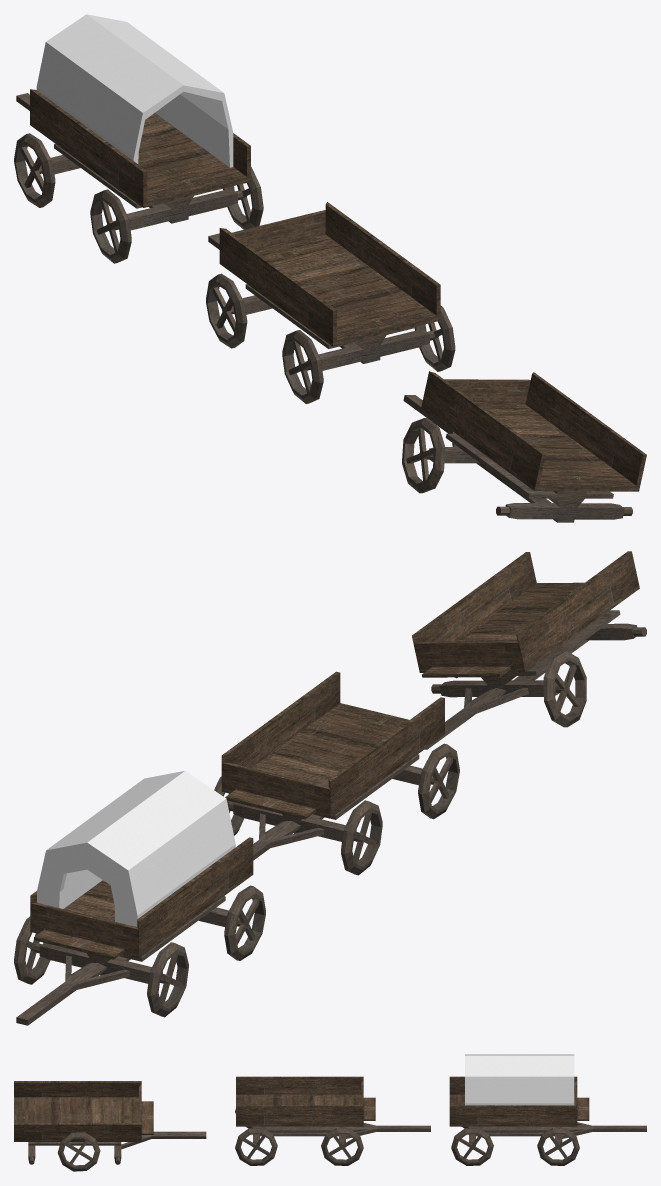
Rendered from oldwest_06.obj.
3 renders of one model, top to bottom at view 1: azimuth 30°, elevation 25°; view 2: azimuth 150°, elevation 25°; view 3: azimuth 270°, elevation 25°, orthographic. The views are drawn at different scales.
Visible parts, largest first — view 1: Cube.064, Cube.071, Cube.079, Cube.068, Cube.065, Cube.066, Cube.070, Cube.067, Cube.069, Cube.080; view 2: Cube.064, Cube.071, Cube.079, Cube.068, Cube.066, Cube.070, Cube.069, Cube.065, Cube.067, Cube.080; view 3: Cube.079, Cube.064, Cube.071, Cube.068, Cube.065, Cube.066, Cube.069, Cube.067, Cube.070, Cube.073.
Boxes of the visible parts, <box> form: Cube.064: <box>219,202,440,346</box>; Cube.071: <box>36,14,233,167</box>; Cube.079: <box>421,371,646,491</box>; Cube.068: <box>30,89,250,207</box>; Cube.065: <box>206,273,455,403</box>; Cube.066: <box>14,133,263,263</box>; Cube.070: <box>403,395,632,522</box>; Cube.067: <box>208,233,438,371</box>; Cube.069: <box>16,93,246,231</box>; Cube.080: <box>402,418,445,493</box>; Cube.064: <box>221,671,444,819</box>; Cube.071: <box>37,771,235,926</box>; Cube.079: <box>412,551,639,677</box>; Cube.068: <box>30,837,253,959</box>; Cube.066: <box>14,885,265,1017</box>; Cube.070: <box>424,610,646,749</box>; Cube.069: <box>16,896,249,1025</box>; Cube.065: <box>214,743,459,875</box>; Cube.067: <box>227,754,443,860</box>; Cube.080: <box>543,651,586,727</box>; Cube.079: <box>14,1081,153,1141</box>; Cube.064: <box>236,1076,375,1126</box>; Cube.071: <box>465,1054,574,1105</box>; Cube.068: <box>449,1076,589,1126</box>; Cube.065: <box>235,1109,363,1165</box>; Cube.066: <box>451,1126,579,1165</box>; Cube.069: <box>469,1122,646,1149</box>; Cube.067: <box>253,1123,430,1149</box>; Cube.070: <box>28,1131,206,1164</box>; Cube.073: <box>57,1132,100,1171</box>.
Bounding box in the file's own units: 1.55 × 1.67 × 9.92.
3 materials, 3 textured.
